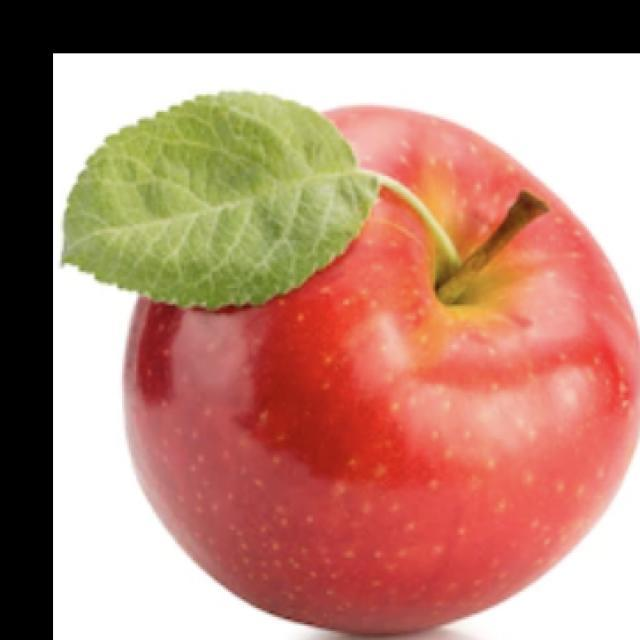Fresh Apple: (123, 103, 635, 640)
